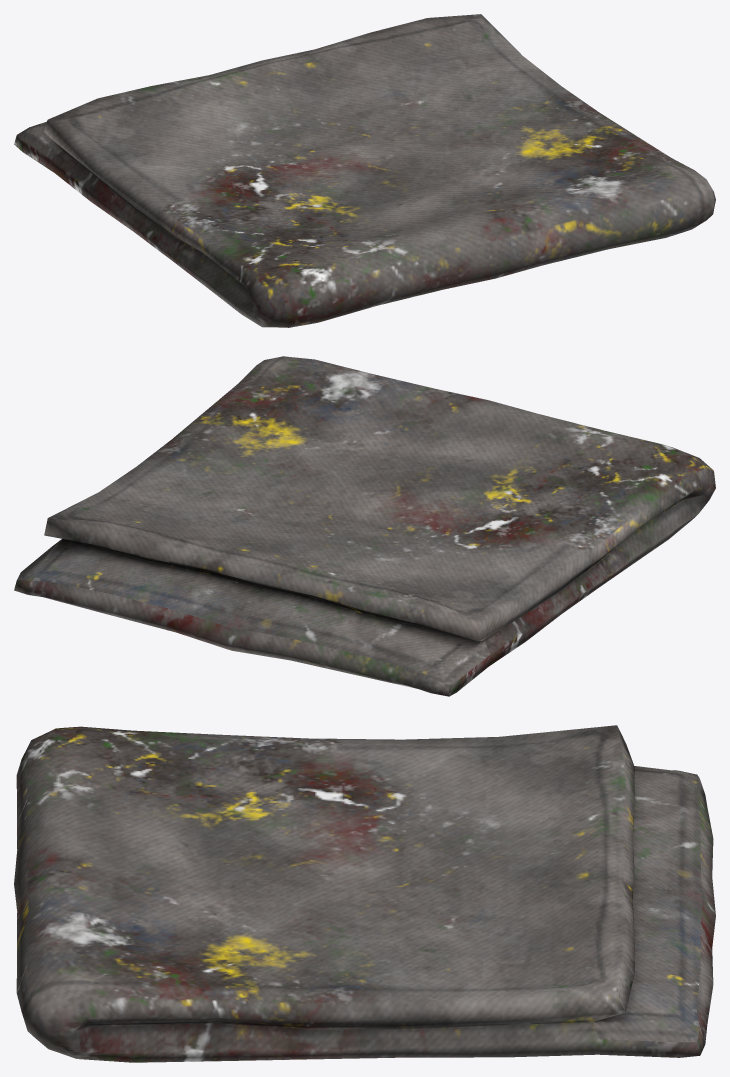
File: medpaintRag.fbx
The picture shows the model from 3 angles, top to bottom: view 1: azimuth 30°, elevation 25°; view 2: azimuth 150°, elevation 25°; view 3: azimuth 270°, elevation 25°; orthographic projection. The views are drawn at different scales.
Parts seen in each view (by area): view 1: paintRag4; view 2: paintRag4; view 3: paintRag4.
Part boxes in pixels (box(x1,y1,x2,y2)): paintRag4: box(14, 14, 715, 327); paintRag4: box(14, 356, 715, 696); paintRag4: box(14, 725, 715, 1062).
Bounding box in the file's own units: 25.62 × 3.53 × 26.88.
1 material, 1 textured.
